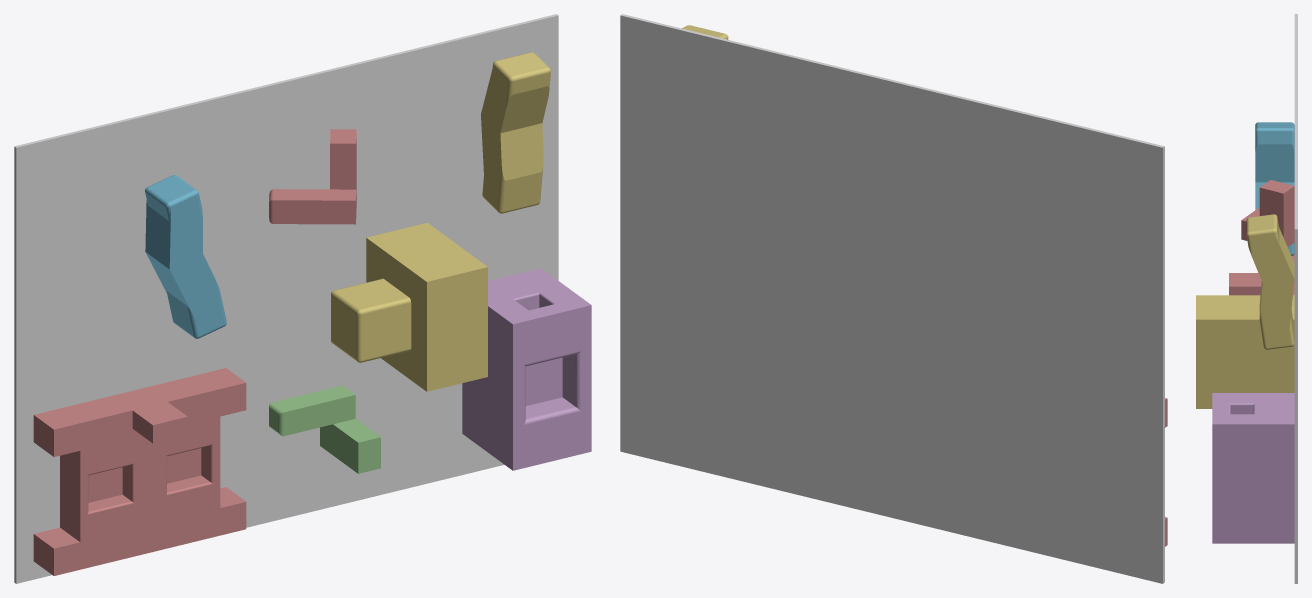
File: pickup_layout.glb
3 views of the same model, side by side, from view 1: azimuth 30°, elevation 25°; view 2: azimuth 150°, elevation 25°; view 3: azimuth 270°, elevation 25° (orthographic). The views are drawn at different scales.
Visible parts, largest first — view 1: world, 0.obj, 3.obj, 6.obj, 1.obj, 2.obj, 4.obj, 5.obj; view 2: world; view 3: 3.obj, 6.obj, 1.obj, 2.obj, world, 5.obj, 0.obj.
Boxes of the visible parts, left/top/right/bottom form: world: left=14, top=14, right=558, bottom=583; 0.obj: left=33, top=368, right=246, bottom=575; 3.obj: left=462, top=268, right=591, bottom=470; 6.obj: left=331, top=222, right=487, bottom=391; 1.obj: left=481, top=52, right=550, bottom=213; 2.obj: left=145, top=175, right=226, bottom=338; 4.obj: left=269, top=385, right=380, bottom=473; 5.obj: left=269, top=129, right=356, bottom=224; world: left=620, top=14, right=1164, bottom=583; 3.obj: left=1212, top=393, right=1294, bottom=543; 6.obj: left=1196, top=295, right=1294, bottom=408; 1.obj: left=1246, top=214, right=1294, bottom=349; 2.obj: left=1255, top=122, right=1294, bottom=255; world: left=1294, top=14, right=1297, bottom=583; 5.obj: left=1241, top=180, right=1294, bottom=246; 0.obj: left=1229, top=254, right=1294, bottom=295.
Bounding box in the file's own units: 31 × 23.82 × 6.2.
